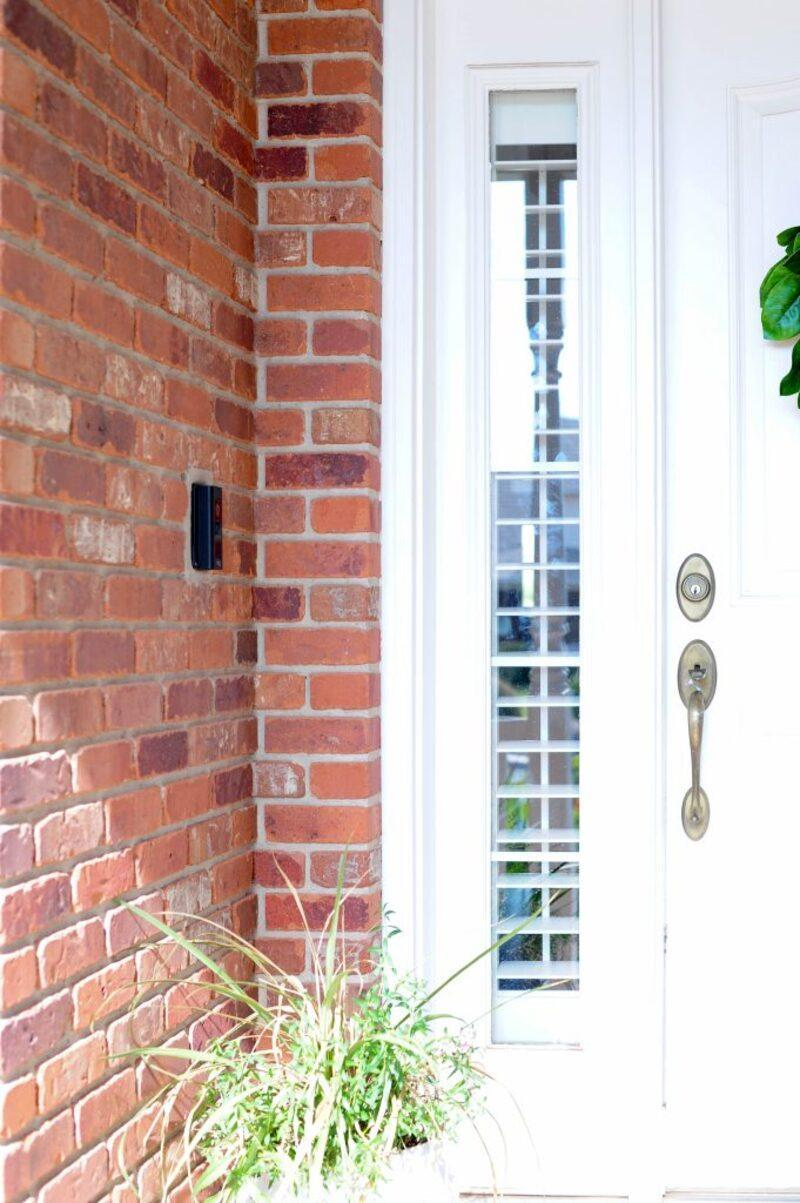doorbell: (179, 475, 233, 580)
